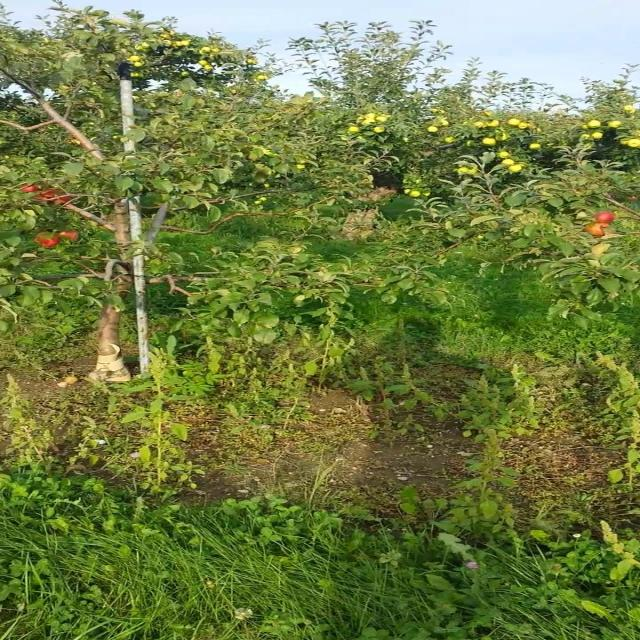apple: (589, 224, 610, 236), (596, 212, 617, 224), (42, 236, 60, 248), (63, 232, 78, 240), (42, 192, 57, 200), (56, 196, 71, 204), (56, 196, 71, 204), (20, 188, 39, 192)
